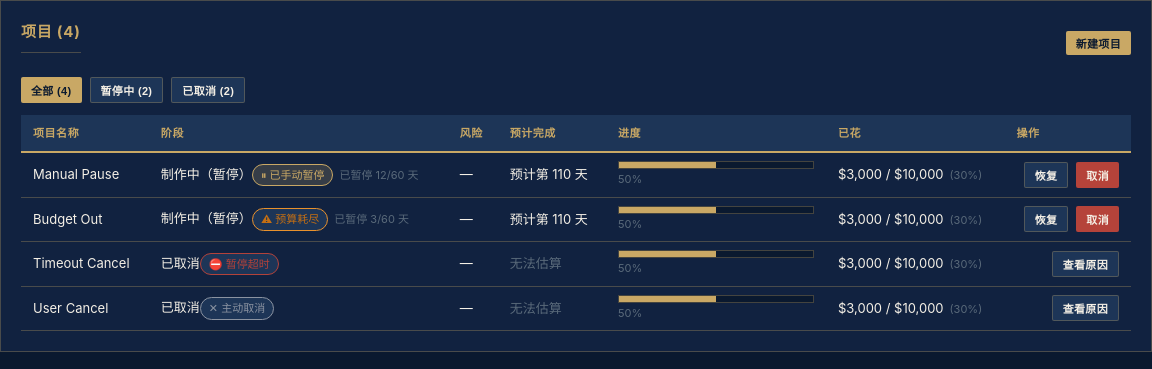
it: TASK-M1.1-UI-001 四态状态展示 › 筛选：全部/暂停/取消 三档生效，取消档仅显示已取消项目
This screenshot has width=1152, height=369.
Expected: the button "全部 (4)" is shown, x1=21 y1=76 x2=82 y2=102
Expected: the button "暂停中 (2)" is shown, x1=90 y1=76 x2=163 y2=102
Click the button "已取消 (2)" at (208, 90), box x1=171 y1=76 x2=245 y2=102
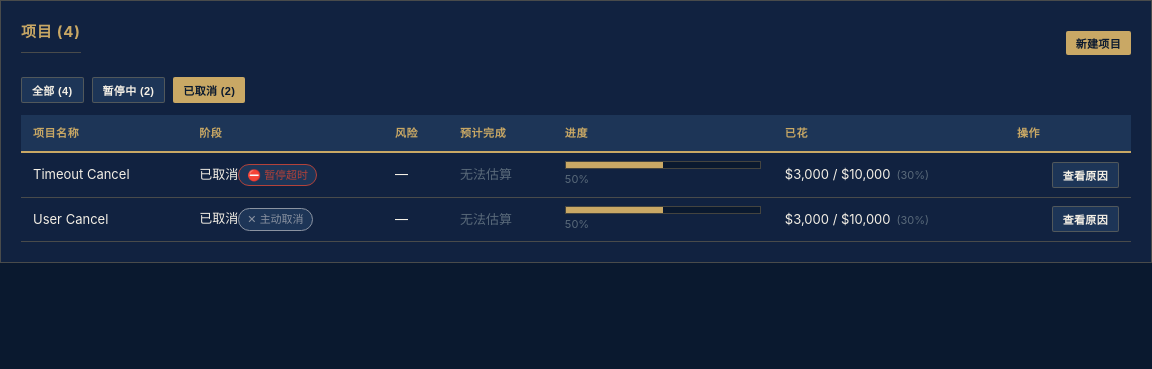
Expected: the text "Timeout Cancel" is shown, x1=21 y1=152 x2=187 y2=197
Result: the text "Manual Pause" is gone
Click the button "暂停中 (2)" at (128, 90), box x1=92 y1=76 x2=165 y2=102
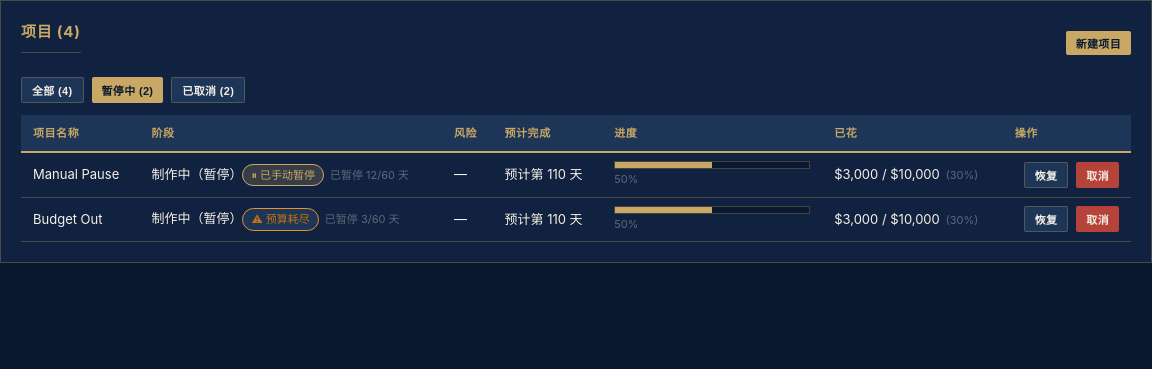
Result: the text "Manual Pause" is shown at x1=21 y1=152 x2=139 y2=197
Result: the text "Budget Out" is shown at x1=21 y1=197 x2=139 y2=242
Result: the text "Timeout Cancel" is gone
